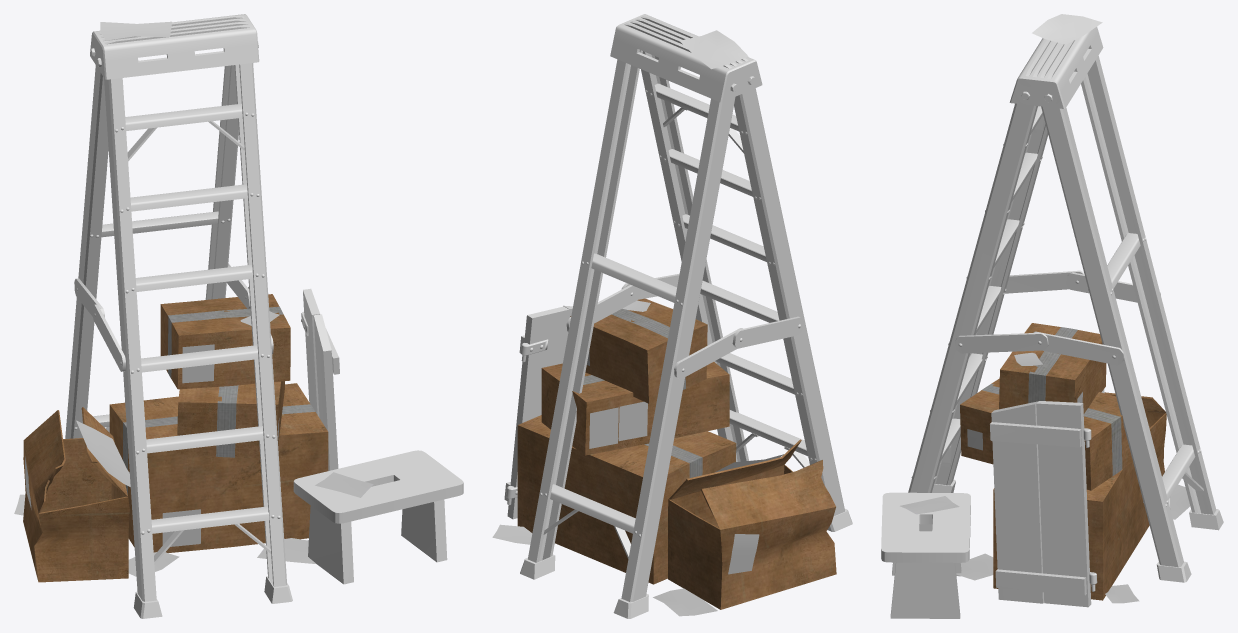
File: TrashPileA.fbx
The picture shows the model from 3 angles, left to right: view 1: azimuth 30°, elevation 25°; view 2: azimuth 150°, elevation 25°; view 3: azimuth 270°, elevation 25°; orthographic projection. The views are drawn at different scales.
Visible parts, largest first — view 1: TrashPileA; view 2: TrashPileA; view 3: TrashPileA.
Boxes of the visible parts, x1,y1,x2,y2 form: TrashPileA: (14, 14, 463, 618); TrashPileA: (492, 14, 852, 618); TrashPileA: (881, 14, 1223, 618).
Size of the model in its own units: 1.41 by 2.03 by 1.27.
